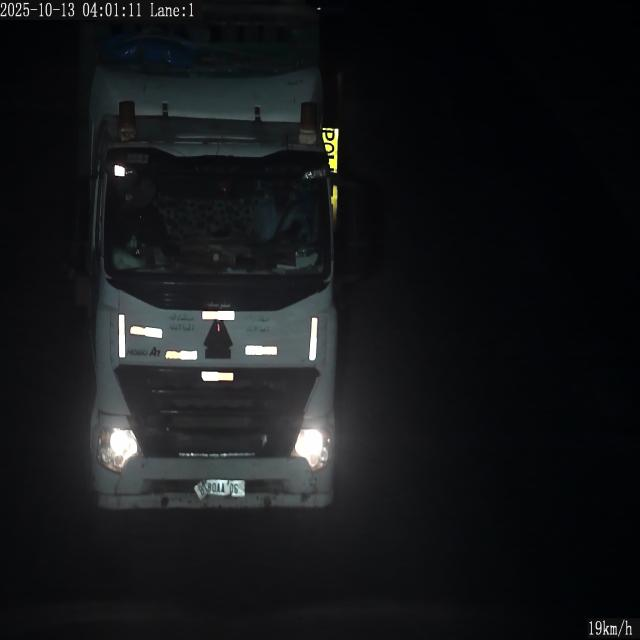BUS: (194, 480, 245, 500)
